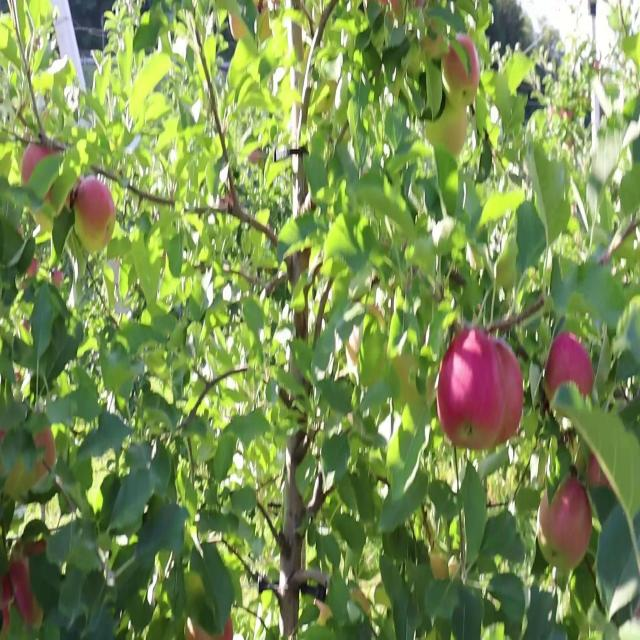apple: (540, 476, 593, 567), (544, 334, 596, 402), (8, 554, 44, 628), (428, 99, 470, 158), (444, 35, 481, 94), (76, 177, 116, 229), (12, 568, 44, 628), (76, 213, 112, 256), (24, 142, 59, 185), (424, 14, 448, 62), (36, 426, 57, 475), (588, 455, 610, 491), (232, 8, 250, 43), (380, 0, 405, 25), (4, 575, 13, 635), (232, 14, 249, 43), (188, 618, 211, 639), (24, 255, 40, 283), (28, 540, 48, 558), (52, 270, 64, 290), (224, 618, 235, 639), (0, 426, 7, 446)
